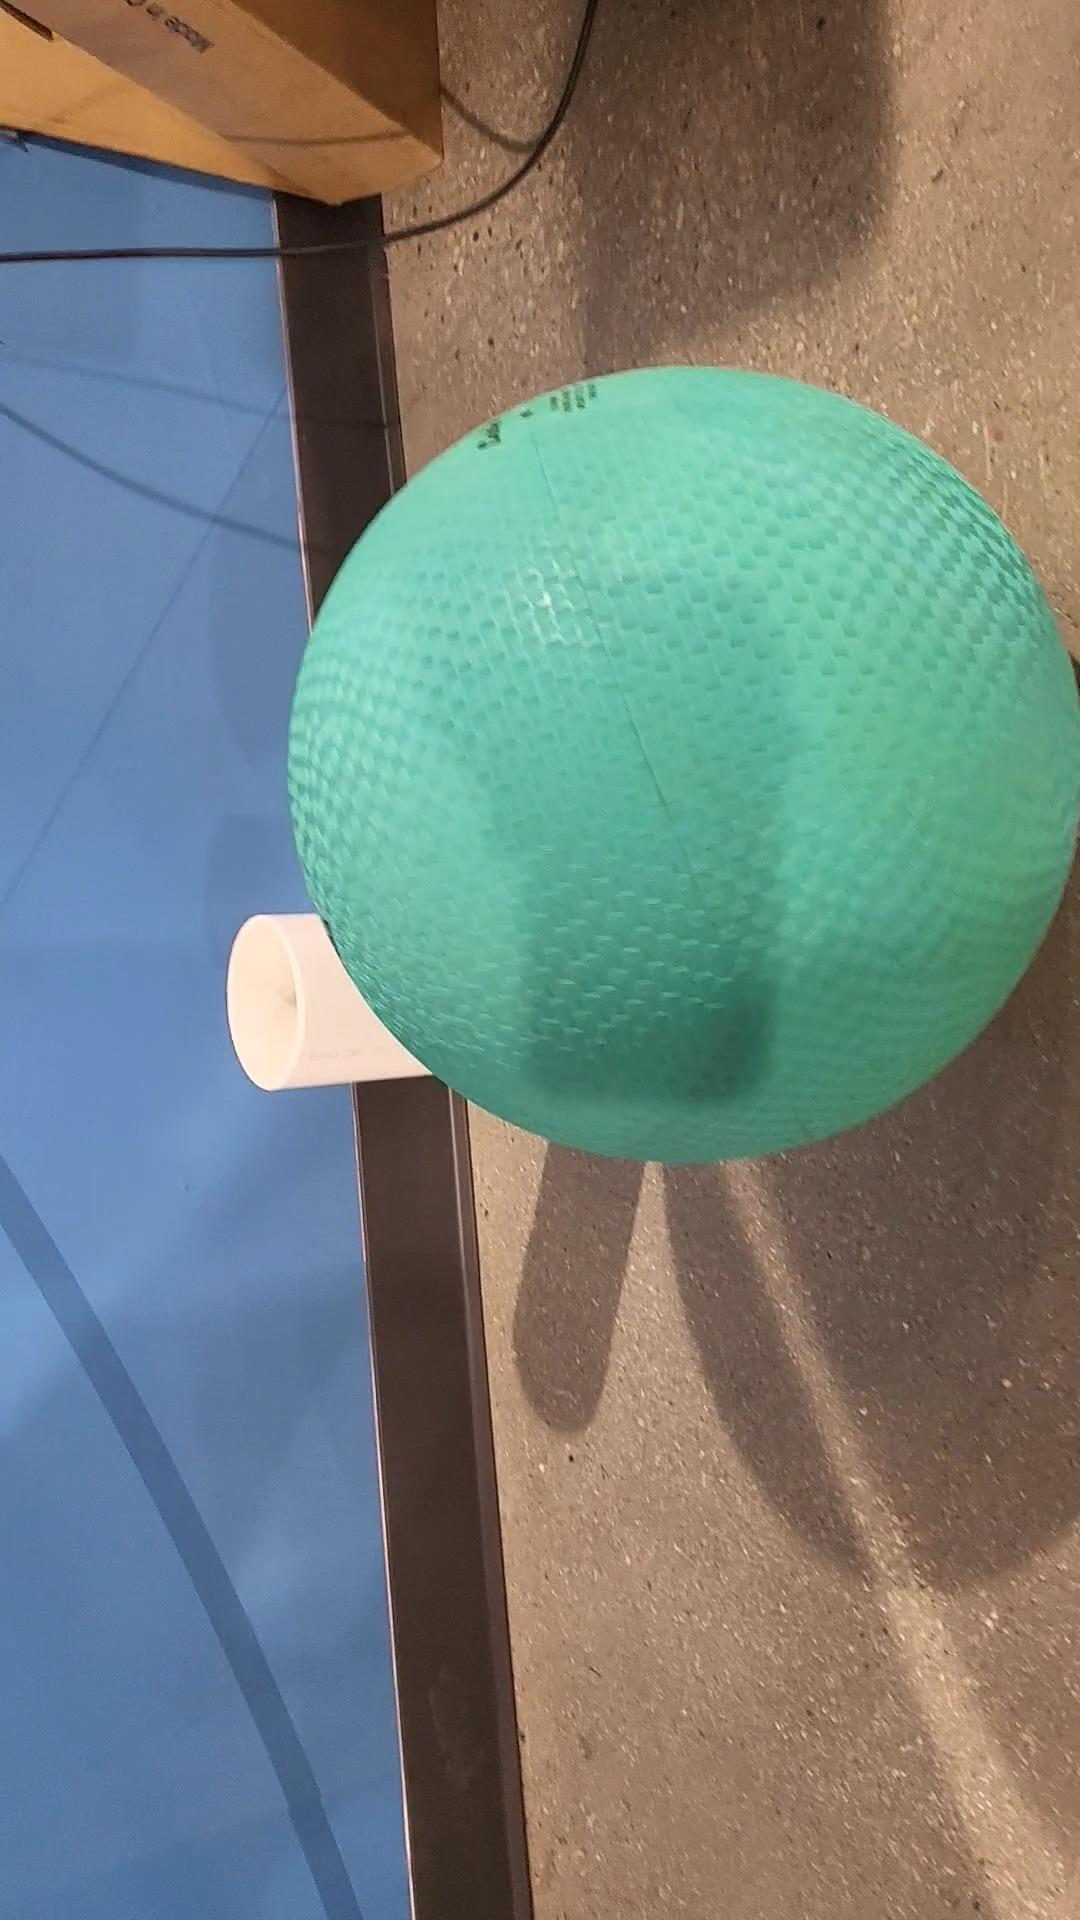coral: (290, 371, 1072, 1150), (228, 913, 435, 1092)
